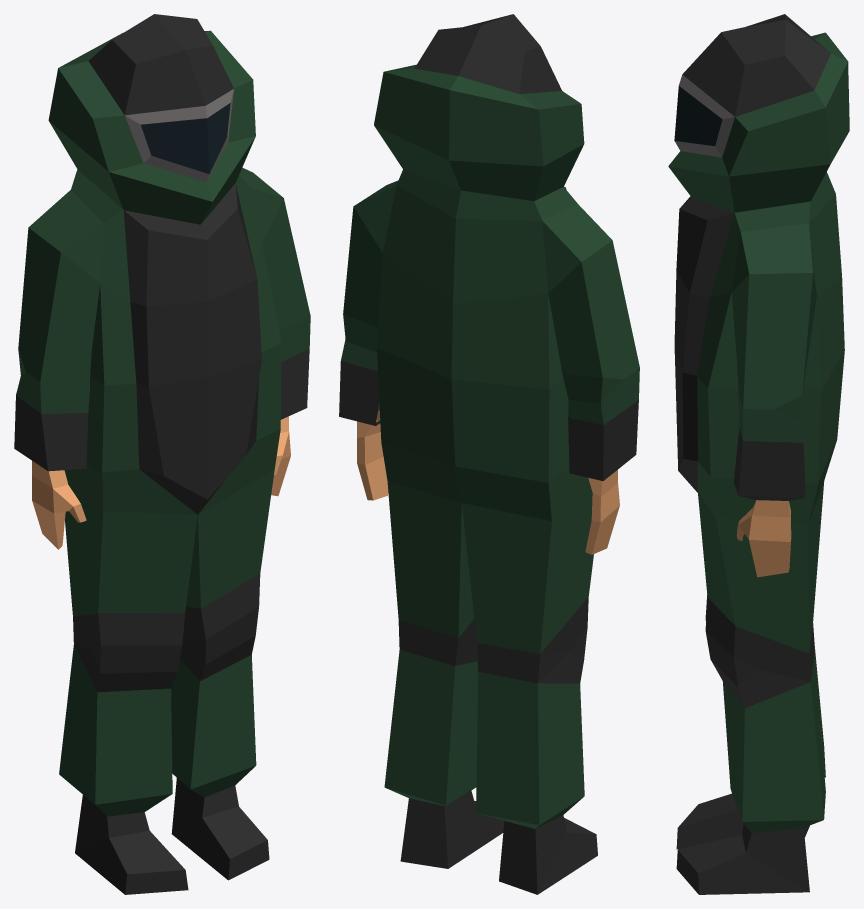
File: man-EOD.glb
3 views of the same model, side by side, from view 1: azimuth 30°, elevation 25°; view 2: azimuth 150°, elevation 25°; view 3: azimuth 270°, elevation 25° (orthographic).
Visible parts, largest first — view 1: man-EOD; view 2: man-EOD; view 3: man-EOD.
Part boxes in pixels (<box>): man-EOD: <box>14,14,310,894</box>; man-EOD: <box>339,14,639,894</box>; man-EOD: <box>668,14,849,894</box>.
Bounding box in the file's own units: 0.6403 × 1.88 × 0.369.
1 material, 1 textured.
